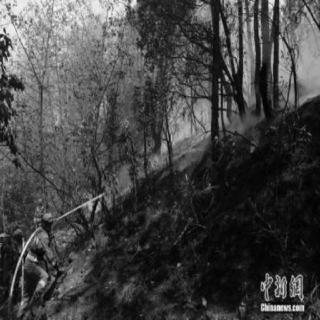Smoke: (297, 44, 317, 88)
other: (2, 197, 58, 317), (256, 263, 306, 309)
